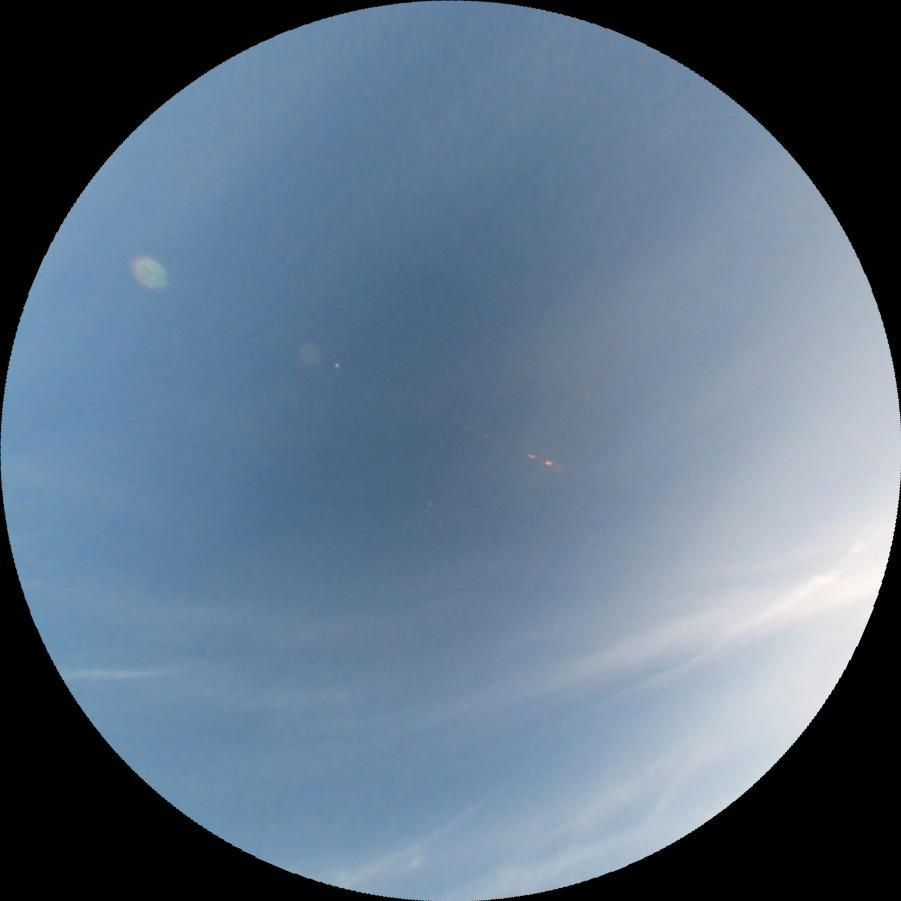contrail veryold: (593, 552, 858, 717)
